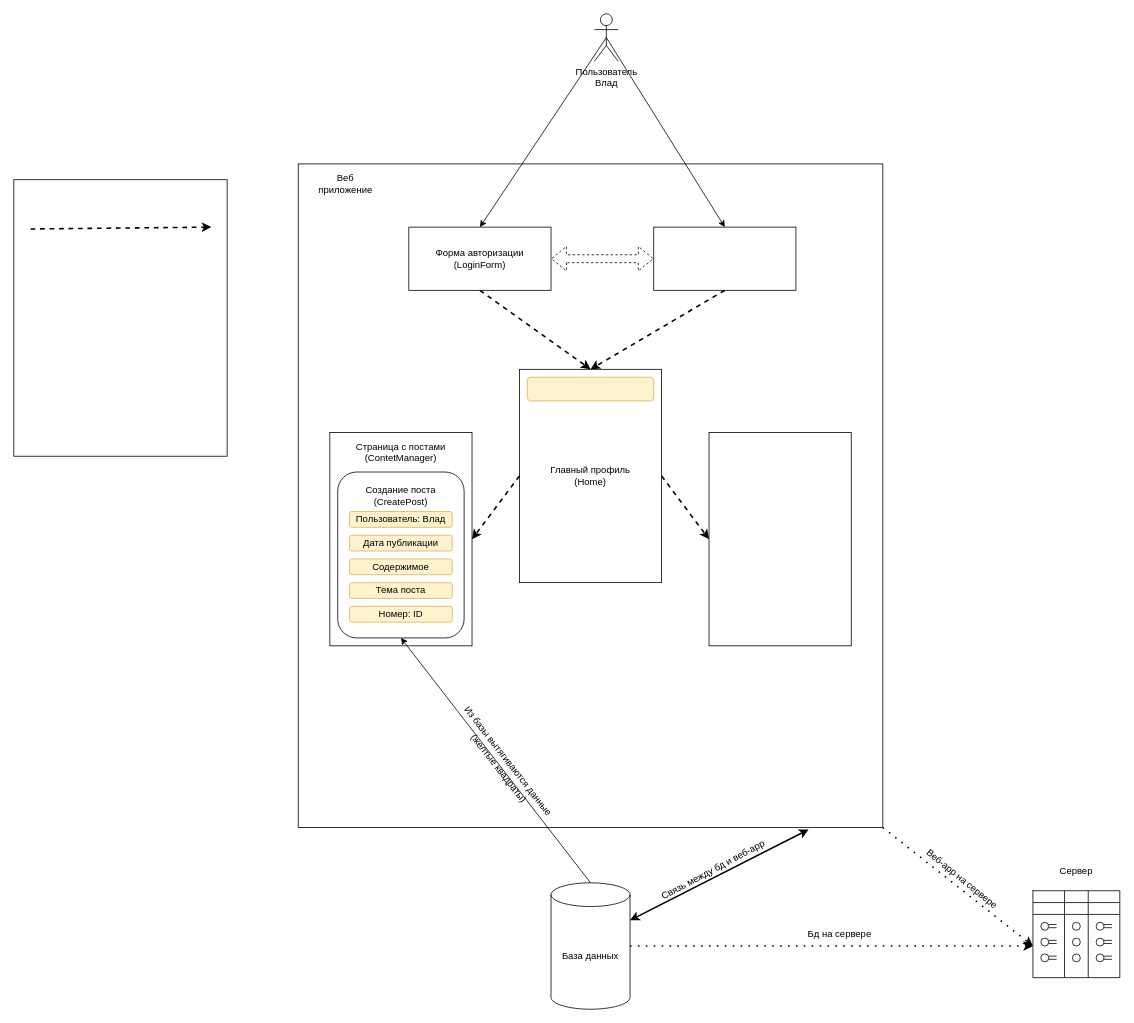
Image size: 1134x1023. Some labels were removed from this diagram. The shapes that lost their labels are listed below. From the top down, each one's box as (x1, y1, x2, y2) in pixels, then its label:
(653, 226, 796, 290): Форма регистрации (RegisterForm)
(13, 179, 227, 456): Маршрутизация по страницам
(527, 376, 654, 401): Данные о пользователе
(708, 432, 851, 646): Кликер
